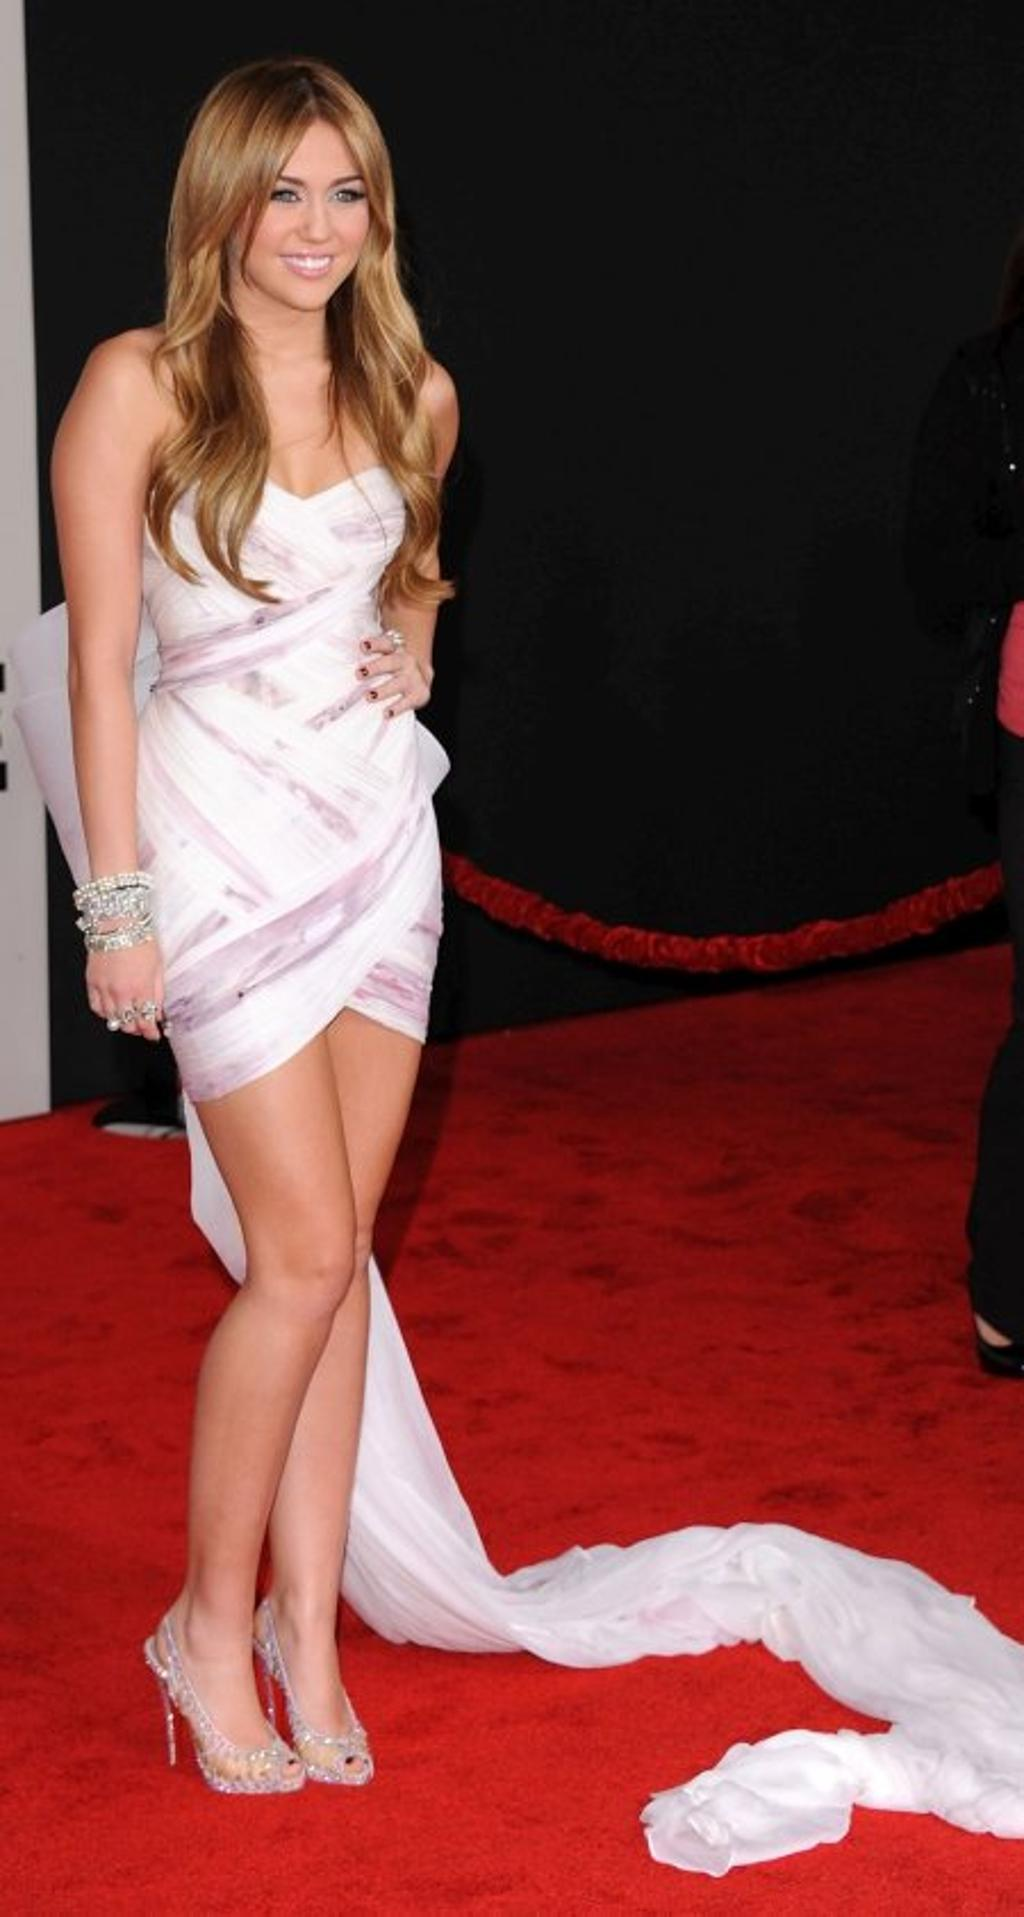face: (228, 116, 370, 307)
